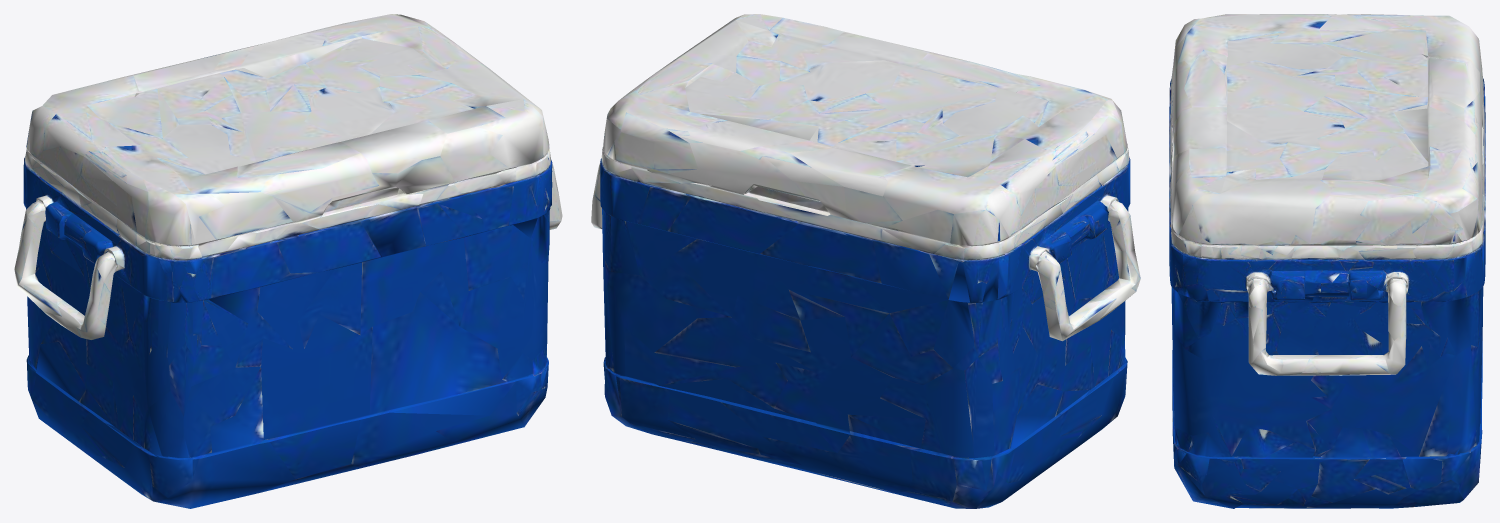
The model's file is cooler.glb.
The picture shows the model from 3 angles, left to right: view 1: azimuth 30°, elevation 25°; view 2: azimuth 150°, elevation 25°; view 3: azimuth 270°, elevation 25°; orthographic projection.
Bounding box in the file's own units: 1.9 × 1.19 × 1.09.
Materials: 1 (1 with a texture image).
